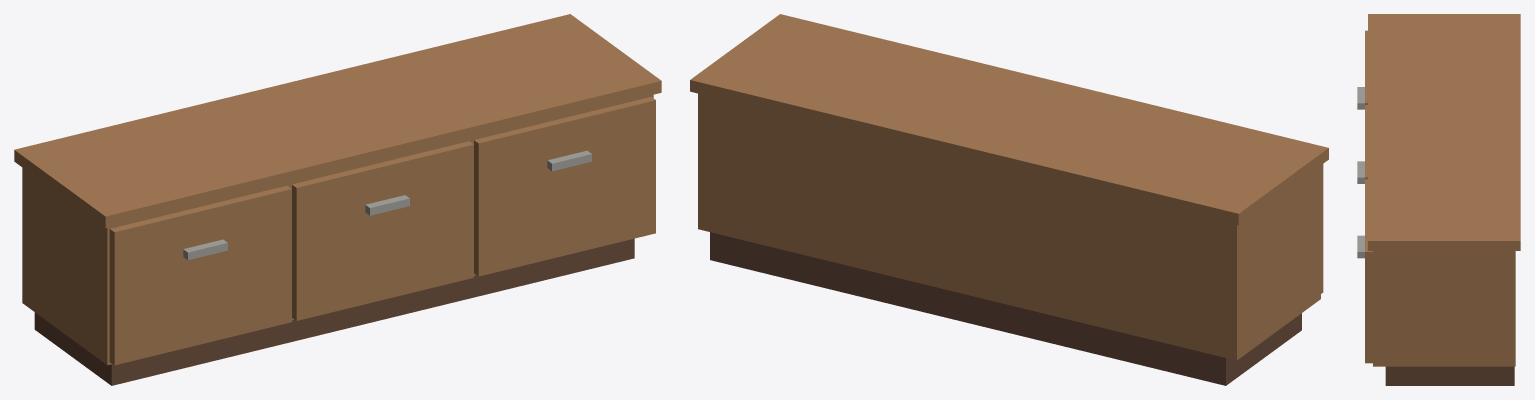
File: media_console.glb
3 views of the same model, side by side, from view 1: azimuth 30°, elevation 25°; view 2: azimuth 150°, elevation 25°; view 3: azimuth 270°, elevation 25° (orthographic). The views are drawn at different scales.
Parts seen in each view (by area): view 1: Top.001, Door, Door.002, Door.001, Case, Plinth, Pull.001, Pull.002, Pull; view 2: Case, Top.001, Plinth; view 3: Top.001, Case, Plinth, Door.002, Door, Door.001, Pull.002, Pull, Pull.001.
Boxes of the visible parts, x1,y1,x2,y2 form: Top.001: (14,14,661,228); Door: (109,185,291,365); Door.002: (474,97,655,276); Door.001: (292,141,473,320); Case: (22,94,653,365); Plinth: (34,238,634,385); Pull.001: (365,195,409,215); Pull.002: (547,150,591,171); Pull: (183,239,227,260); Case: (698,93,1320,360); Top.001: (690,14,1328,225); Plinth: (710,232,1301,385); Top.001: (1368,14,1520,250); Case: (1373,251,1515,366); Plinth: (1385,366,1514,385); Door.002: (1365,179,1372,363); Door: (1365,30,1367,104); Door.001: (1365,105,1367,179); Pull.002: (1357,235,1364,258); Pull: (1357,87,1364,109); Pull.001: (1357,161,1364,183).
Bounding box in the file's own units: 1.67 × 0.52 × 0.508.
